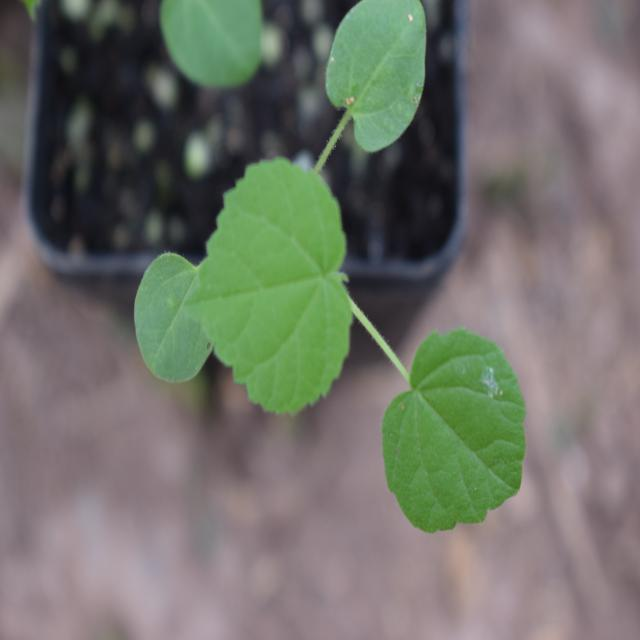abutilon theophrasti: (138, 18, 514, 525)
